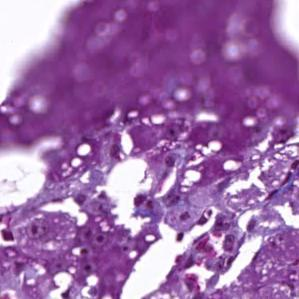ballooning: (99, 153, 160, 241)
